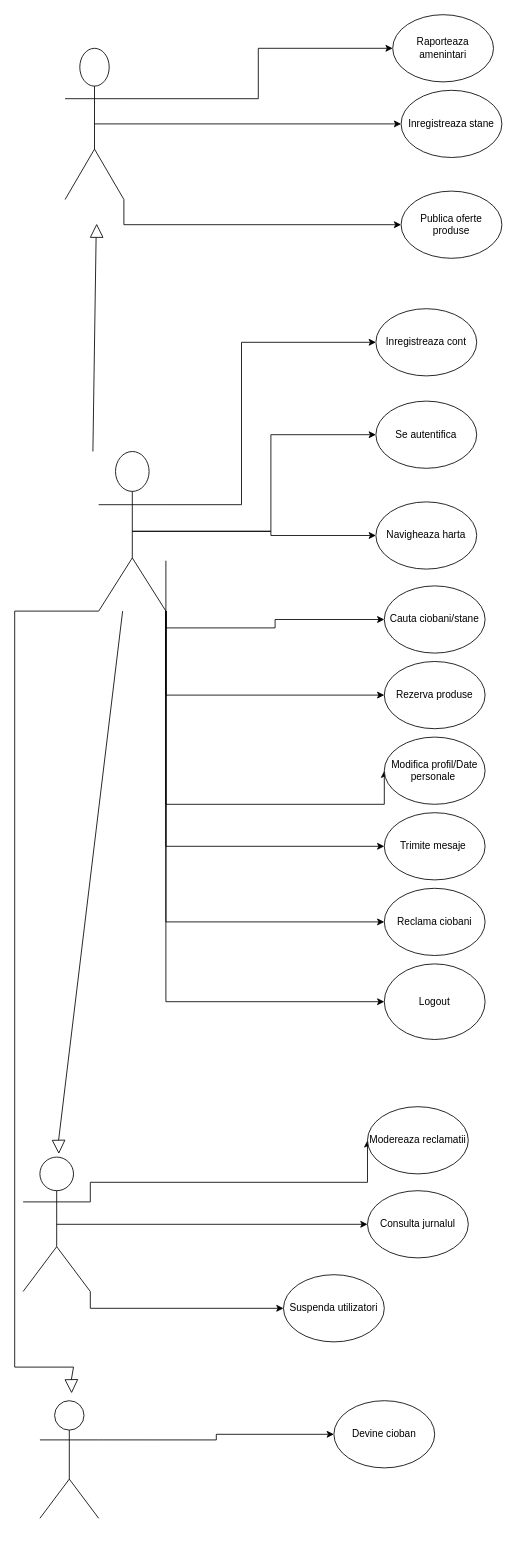
The diagram is 517 pixels wide and 1551 high, and some of its shapes have lost their labels. The centre of each missing label's shape, as x and y in pixels:
"Casual" belongs at (69,1459).
"Moderator" belongs at (56,1224).
"Shepheard" belongs at (94,123).
"User" belongs at (132,531).
